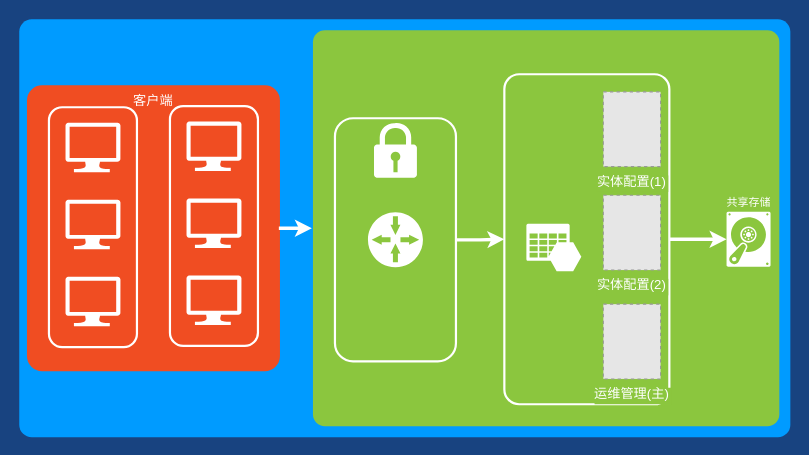
This 809x455 diagram has some shape labels left out. Grey dashed boxes stand in for pictures. The shapes that lost their labels are listed below. From the top down, each one's centre as x and y in pixels, then its label:
At point (394, 239): "Gateway".
At point (553, 247): "Redis 同步锁".
